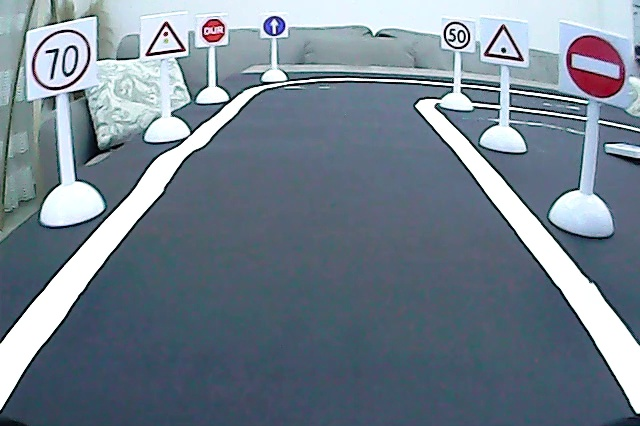do not enter: (564, 32, 629, 102)
green light: (482, 20, 527, 64)
red light: (143, 18, 190, 58)
speed limit 50: (441, 19, 472, 52)
speed limit 70: (28, 26, 95, 95)
stop sign: (199, 16, 228, 45)
